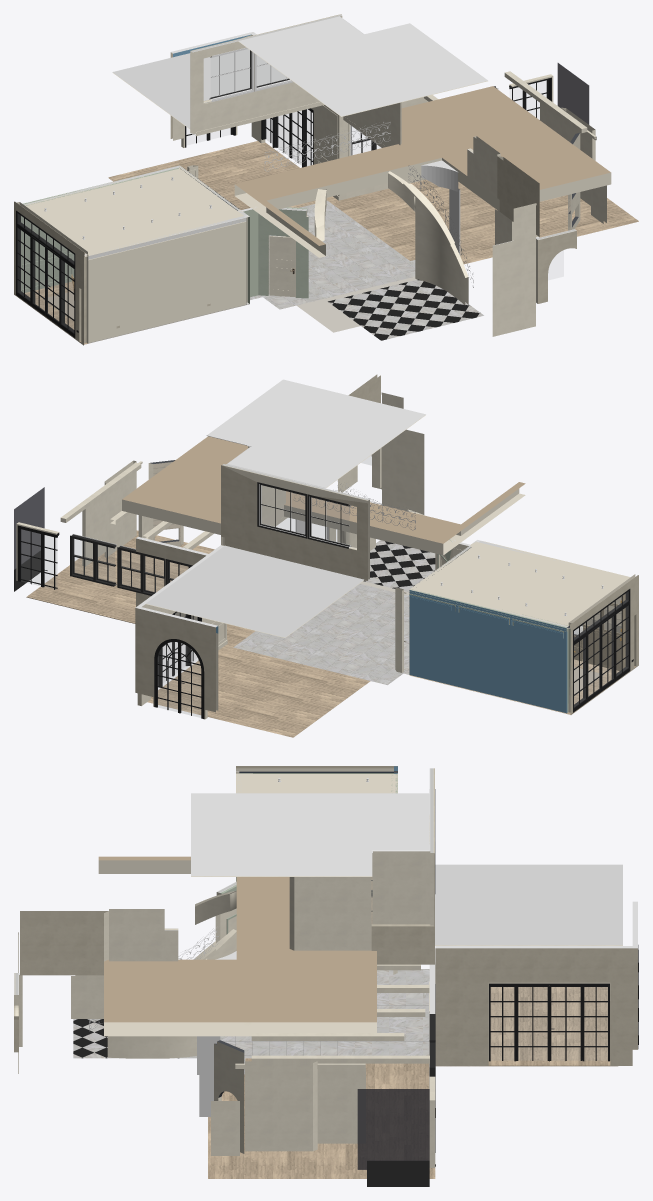
File: dining-room-80c2347452a2.glb
3 views of the same model, one above another, from view 1: azimuth 30°, elevation 25°; view 2: azimuth 150°, elevation 25°; view 3: azimuth 270°, elevation 25° (orthographic). The views are drawn at different scales.
Visible parts, largest first — view 1: dining-room-look-2575515a05775d9e, dining-room-look-9d91b47435c6fb33, dining-room-d999b7e09afcf2f4, dining-room-look-3b0077416469e01b, dining-room-2575515a05775d9e, dining-room-look-ba376bd68a22f7f3, dining-room-look-4a969f5cc1ae3dfe, dining-room-look-c4ac463b6a960119, dining-room-look-245f595ae2832e16, dining-room-look-d5a4a1b5d3594c04, dining-room-look-8c6a7019fd0063e7, dining-room-701dbbc71a4c8bc6 (+39 smaller); view 2: dining-room-look-3b0077416469e01b, dining-room-b19b106fc304963c, dining-room-look-9d91b47435c6fb33, dining-room-look-2575515a05775d9e, dining-room-look-4a969f5cc1ae3dfe, dining-room-2575515a05775d9e, dining-room-look-ba376bd68a22f7f3, dining-room-look-245f595ae2832e16, dining-room-look-969b861f9850351e, dining-room-look-d5a4a1b5d3594c04, dining-room-look-c4ac463b6a960119, dining-room-look-cdd3b97a7e9637be (+26 smaller); view 3: dining-room-look-2575515a05775d9e, dining-room-look-3b0077416469e01b, dining-room-look-9d91b47435c6fb33, dining-room-look-4a969f5cc1ae3dfe, dining-room-look-e706aa16b4547c37, dining-room-look-5b6bbac285e58726, dining-room-look-69af8f587252f9fa, dining-room-look-ba376bd68a22f7f3, dining-room-look-62353aa10fc57f23, dining-room-look-cbd4bf73d9724a66, dining-room-look-32b959c9aa406288, dining-room-2575515a05775d9e (+21 smaller).
Part boxes in pixels (x1,y1,x2,y2): dining-room-look-2575515a05775d9e: (234,86,611,257); dining-room-look-9d91b47435c6fb33: (238,16,487,116); dining-room-d999b7e09afcf2f4: (88,216,246,342); dining-room-look-3b0077416469e01b: (108,141,638,264); dining-room-2575515a05775d9e: (15,166,248,256); dining-room-look-ba376bd68a22f7f3: (250,200,415,309); dining-room-look-4a969f5cc1ae3dfe: (112,49,288,129); dining-room-look-c4ac463b6a960119: (328,279,483,340); dining-room-look-245f595ae2832e16: (190,14,342,134); dining-room-look-d5a4a1b5d3594c04: (492,235,535,336); dining-room-look-8c6a7019fd0063e7: (388,171,468,305); dining-room-701dbbc71a4c8bc6: (16,210,75,337); dining-room-look-3b0077416469e01b: (26,530,370,737); dining-room-b19b106fc304963c: (409,590,567,713); dining-room-look-9d91b47435c6fb33: (206,379,425,488); dining-room-look-2575515a05775d9e: (122,436,525,555); dining-room-look-4a969f5cc1ae3dfe: (146,545,364,637); dining-room-2575515a05775d9e: (410,541,637,628); dining-room-look-ba376bd68a22f7f3: (233,584,409,684); dining-room-look-245f595ae2832e16: (221,464,369,580); dining-room-look-969b861f9850351e: (135,606,218,712); dining-room-look-d5a4a1b5d3594c04: (382,429,424,514); dining-room-look-c4ac463b6a960119: (363,540,435,592); dining-room-look-cdd3b97a7e9637be: (257,482,307,538); dining-room-look-2575515a05775d9e: (98,856,376,1036); dining-room-look-3b0077416469e01b: (208,987,617,1178); dining-room-look-9d91b47435c6fb33: (191,793,429,876); dining-room-look-4a969f5cc1ae3dfe: (435,864,622,945); dining-room-look-e706aa16b4547c37: (435,946,632,1065); dining-room-look-5b6bbac285e58726: (245,1061,317,1151); dining-room-look-69af8f587252f9fa: (289,877,371,950); dining-room-look-ba376bd68a22f7f3: (220,969,429,1074); dining-room-look-62353aa10fc57f23: (20,911,108,975); dining-room-look-cbd4bf73d9724a66: (357,1089,429,1169); dining-room-look-32b959c9aa406288: (372,851,429,924); dining-room-2575515a05775d9e: (236,766,397,793).
Bounding box in the file's own units: 20 × 6.36 × 16.79.
Materials: 53 (17 with a texture image).
